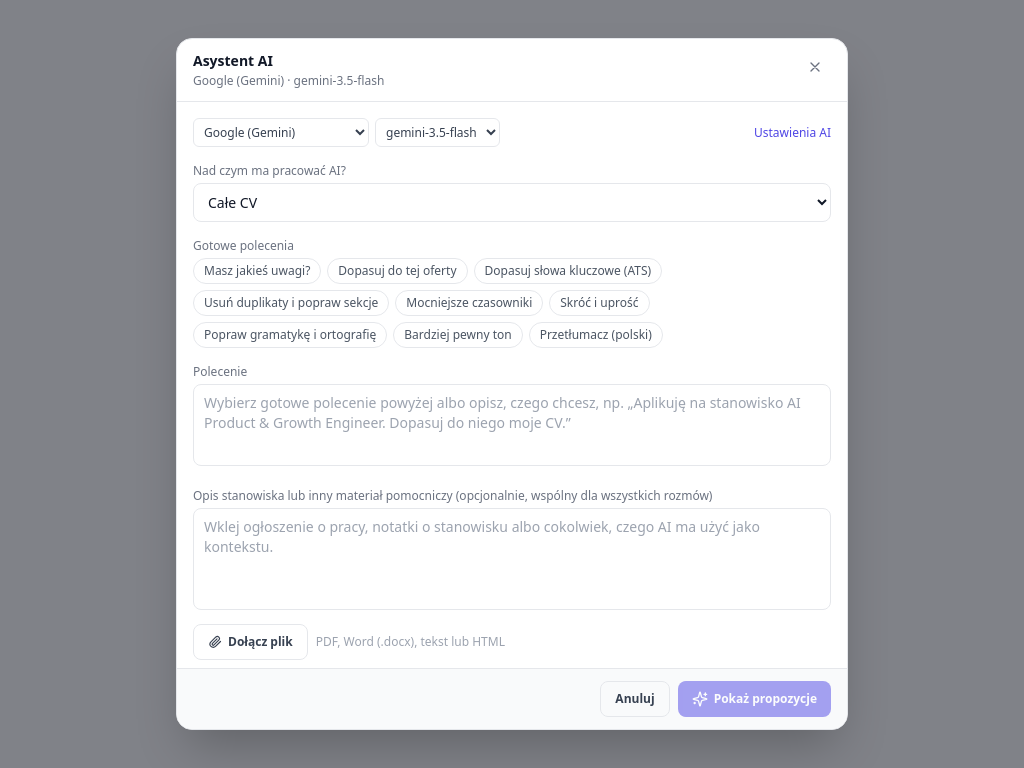
Test: a conversation in Polish › tells the model to answer in the language of the app, while the instructions stay English
This screenshot has width=1024, height=768.
Replace the text in the text box labelled "Polecenie" with "Popraw mój opis": point(512, 425) [193, 384, 831, 466]
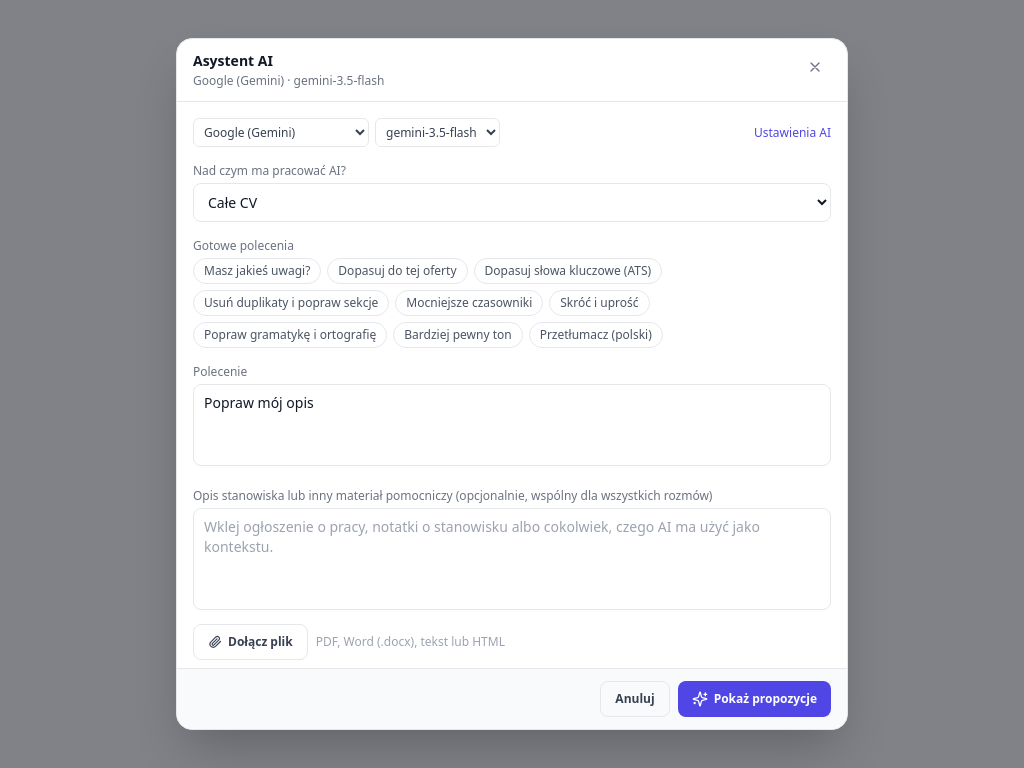
Click the button "Pokaż propozycje": point(754, 699) [678, 681, 831, 717]
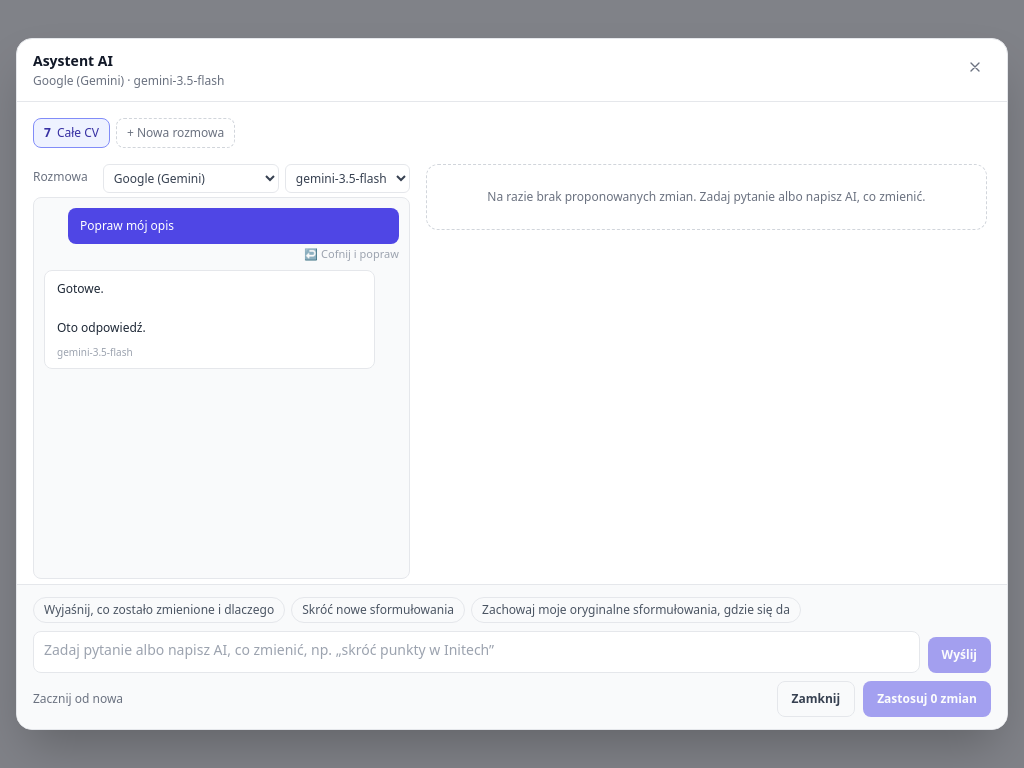
Expected: the text "Gotowe. Oto odpowiedź. gemini-3.5-flash" is shown, [44, 270, 375, 369]
